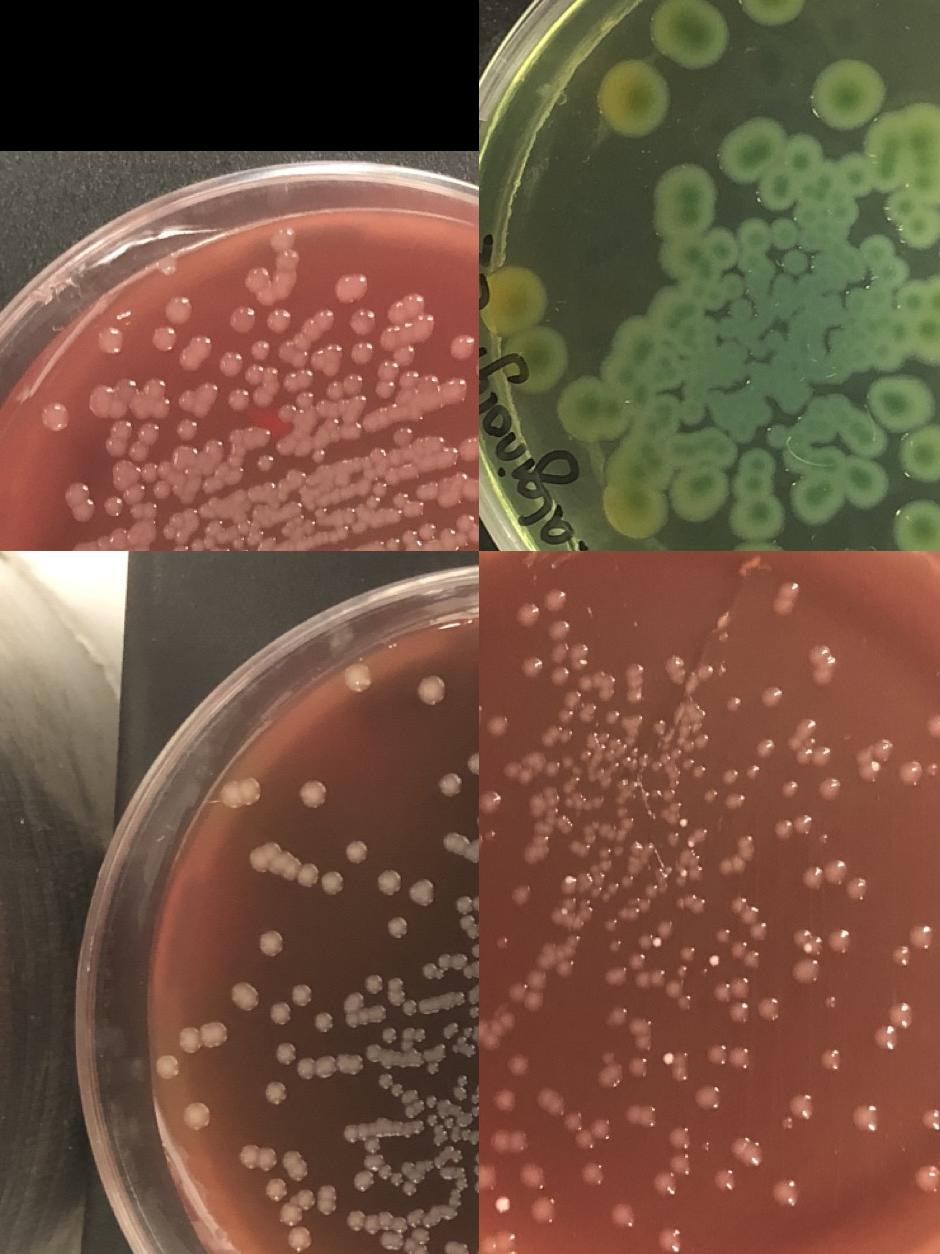assalmonicida: (270, 983, 312, 1024), (415, 672, 450, 706), (238, 1144, 280, 1170), (298, 777, 330, 809), (345, 1209, 384, 1235), (319, 866, 347, 898), (184, 1100, 212, 1132), (258, 928, 286, 958), (437, 770, 465, 798), (403, 1226, 430, 1254), (410, 879, 438, 905), (376, 868, 404, 894), (262, 1078, 290, 1104), (352, 1169, 377, 1193), (313, 1053, 337, 1078), (156, 1053, 180, 1078), (362, 971, 386, 995), (287, 1158, 311, 1182), (266, 1176, 290, 1200), (386, 916, 410, 938), (345, 840, 369, 862), (312, 1010, 336, 1032), (280, 1202, 302, 1226), (274, 1042, 298, 1064), (455, 894, 479, 913), (390, 1215, 408, 1233), (471, 919, 479, 957), (471, 1098, 479, 1125), (414, 1027, 428, 1041), (462, 966, 476, 978), (454, 1088, 468, 1100), (390, 1083, 404, 1095), (390, 1172, 404, 1184), (469, 1005, 479, 1021), (456, 1073, 468, 1085), (444, 1116, 456, 1128), (426, 1095, 438, 1107), (426, 1114, 438, 1126), (473, 1164, 479, 1176), (473, 1180, 479, 1192)
pdpiscicida: (542, 1090, 613, 1152), (629, 953, 694, 1010), (655, 1124, 693, 1194), (791, 714, 834, 769), (892, 924, 936, 968), (716, 928, 762, 968), (874, 1002, 912, 1050), (856, 736, 894, 784), (731, 896, 769, 940), (479, 1009, 518, 1051), (508, 970, 548, 1010), (718, 832, 755, 874), (800, 858, 847, 891), (772, 810, 816, 838), (807, 642, 833, 687), (564, 688, 599, 720), (490, 1128, 530, 1156), (479, 1227, 520, 1254), (772, 576, 800, 614), (730, 1134, 762, 1167), (712, 976, 750, 1002), (630, 1015, 652, 1051), (637, 882, 659, 914), (794, 956, 818, 984), (532, 1196, 556, 1224), (660, 1228, 685, 1254), (916, 1165, 940, 1191), (898, 759, 922, 785), (855, 1104, 879, 1130), (847, 876, 871, 902), (830, 927, 854, 953), (820, 774, 844, 800), (819, 1046, 843, 1072), (790, 1092, 814, 1118), (758, 684, 782, 710), (758, 994, 782, 1020), (728, 1044, 752, 1070), (714, 1166, 738, 1192), (696, 1084, 720, 1110), (634, 1104, 658, 1130), (612, 1202, 636, 1228), (580, 1162, 604, 1188), (542, 587, 566, 613), (520, 1161, 544, 1187), (516, 602, 540, 628), (495, 1086, 519, 1112), (480, 786, 504, 812), (671, 1050, 690, 1082), (487, 711, 510, 737), (776, 1178, 798, 1204), (598, 1062, 620, 1088), (548, 616, 570, 642), (520, 653, 542, 679), (754, 736, 776, 761), (596, 843, 614, 873), (922, 1108, 940, 1134), (479, 1165, 496, 1191), (723, 693, 743, 714), (706, 1043, 726, 1063), (508, 1054, 528, 1074), (606, 1007, 626, 1026), (511, 882, 530, 902), (556, 958, 575, 977), (794, 928, 812, 948), (730, 1001, 748, 1021), (627, 1058, 647, 1076), (552, 666, 570, 686), (928, 711, 940, 737), (744, 763, 762, 779), (690, 763, 708, 779), (558, 728, 575, 744), (702, 788, 718, 804), (692, 825, 708, 841), (690, 898, 706, 914), (666, 830, 682, 846), (636, 934, 652, 950), (607, 939, 624, 954), (574, 842, 591, 857), (783, 780, 798, 796), (720, 769, 736, 784), (658, 921, 673, 937), (680, 946, 694, 962), (662, 786, 676, 802), (620, 814, 634, 829), (730, 792, 744, 806), (602, 916, 616, 930), (479, 829, 484, 855)
valgino: (812, 58, 884, 130), (602, 61, 666, 137)
vharveyi: (388, 296, 434, 338), (178, 333, 213, 370), (64, 481, 96, 520), (130, 423, 158, 460), (280, 334, 310, 368), (222, 384, 252, 414), (436, 377, 468, 405), (446, 331, 476, 359), (228, 306, 258, 334), (312, 348, 340, 377), (215, 350, 244, 378), (107, 421, 131, 454), (348, 306, 376, 334), (338, 272, 366, 300), (348, 341, 376, 368), (98, 326, 125, 352), (42, 404, 69, 430), (270, 224, 296, 250), (265, 307, 291, 333), (244, 266, 270, 292), (174, 416, 200, 442), (166, 298, 192, 324), (151, 326, 177, 352), (457, 514, 479, 542), (284, 370, 312, 391), (129, 500, 156, 519), (460, 434, 479, 459), (390, 492, 412, 510), (106, 497, 124, 517), (394, 428, 412, 446), (380, 362, 398, 380), (344, 374, 362, 392), (310, 446, 328, 464), (394, 348, 412, 365), (141, 463, 159, 480), (416, 482, 433, 499), (377, 381, 394, 397), (256, 455, 273, 471), (252, 342, 268, 357), (154, 482, 169, 498), (422, 524, 436, 540), (326, 383, 340, 399), (280, 404, 294, 420), (298, 392, 312, 406), (439, 545, 457, 551)
